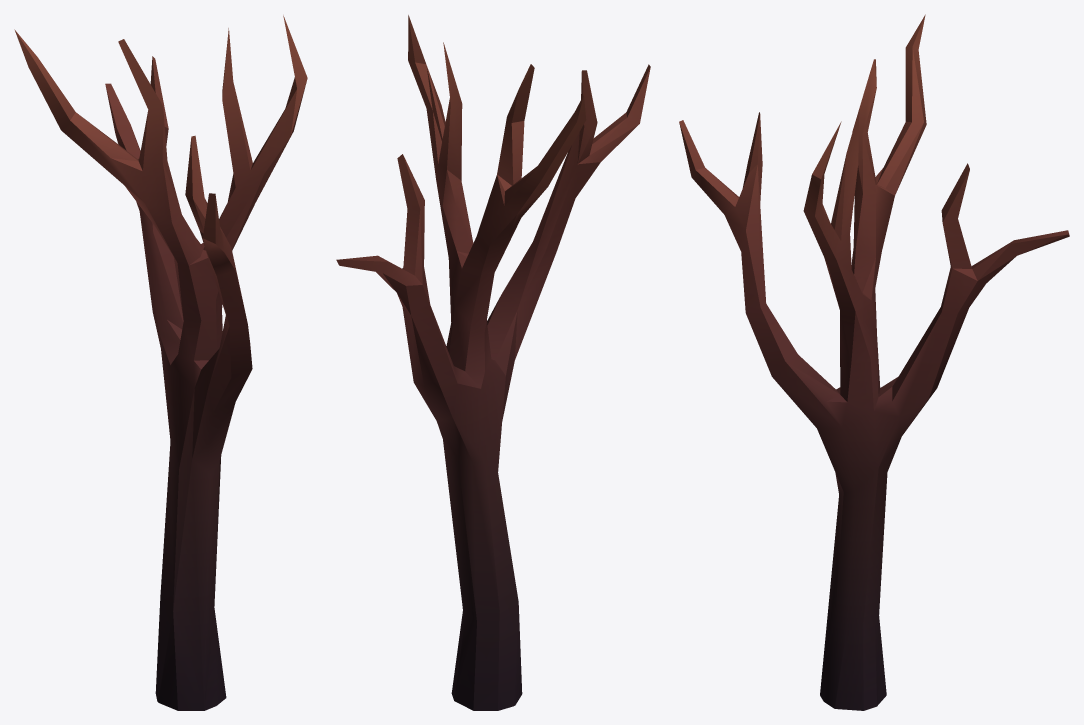
The model's file is DeadTree5.fbx.
3 views of the same model, side by side, from view 1: azimuth 30°, elevation 25°; view 2: azimuth 150°, elevation 25°; view 3: azimuth 270°, elevation 25° (orthographic). The views are drawn at different scales.
Visible parts, largest first — view 1: DeadTree5; view 2: DeadTree5; view 3: DeadTree5.
Part boxes in pixels (x1,y1,x2,y2): DeadTree5: (14,15,307,710); DeadTree5: (336,15,650,710); DeadTree5: (679,14,1069,710).
Bounding box in the file's own units: 2.23 × 6.11 × 3.49.
